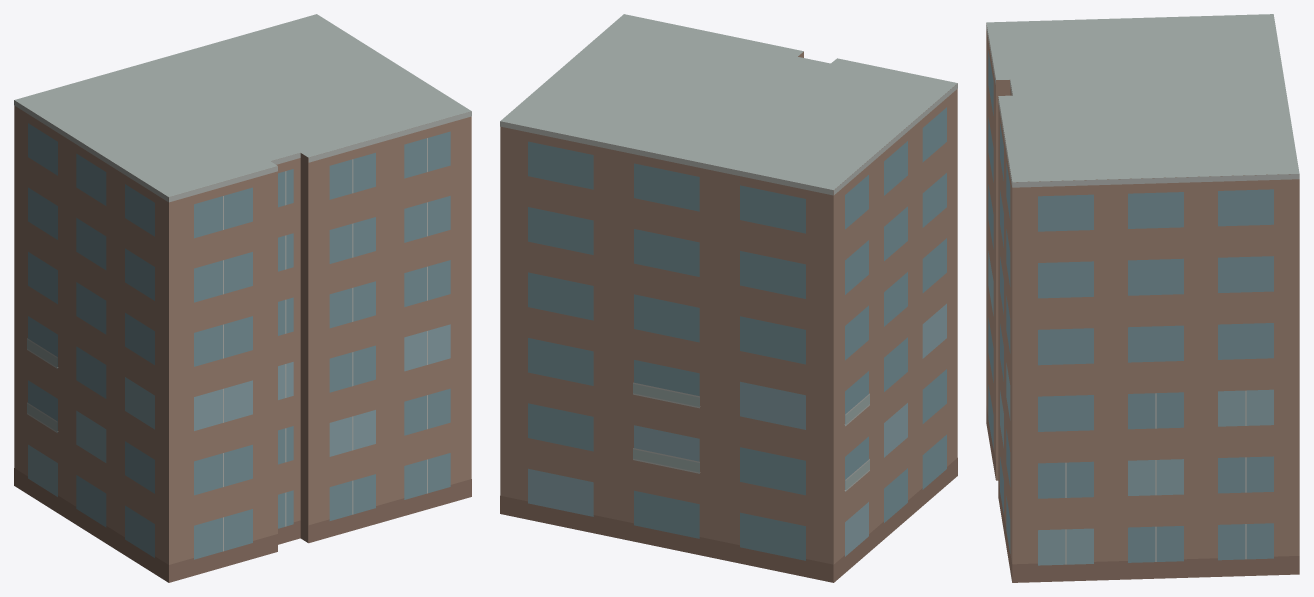
The model's file is survey-upis-32729199.glb.
3 views of the same model, side by side, from view 1: azimuth 30°, elevation 25°; view 2: azimuth 150°, elevation 25°; view 3: azimuth 270°, elevation 25° (orthographic). The views are drawn at different scales.
Visible parts, largest first — view 1: survey-upis-32729199.tmp; view 2: survey-upis-32729199.tmp; view 3: survey-upis-32729199.tmp.
Boxes of the visible parts, left/top/right/bottom form: survey-upis-32729199.tmp: left=14, top=14, right=471, bottom=582; survey-upis-32729199.tmp: left=500, top=14, right=957, bottom=582; survey-upis-32729199.tmp: left=986, top=14, right=1299, bottom=582.
Size of the model in its own units: 16.13 by 17.9 by 12.69.
